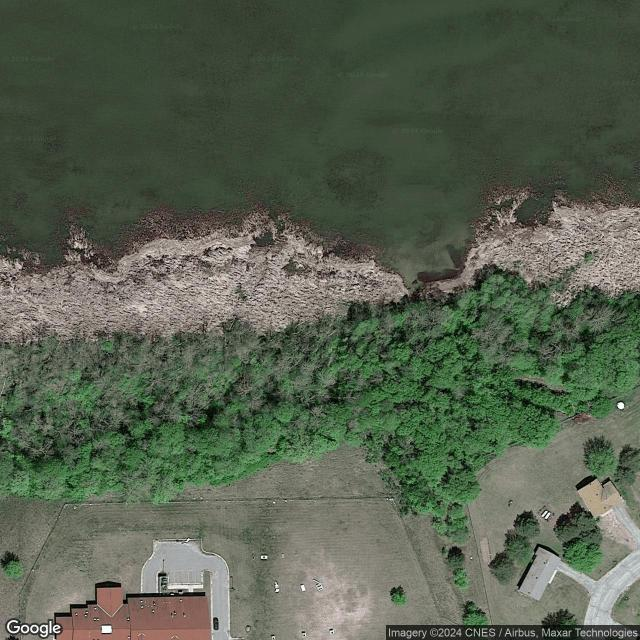Propane: (539, 509, 549, 519), (544, 511, 552, 520)
